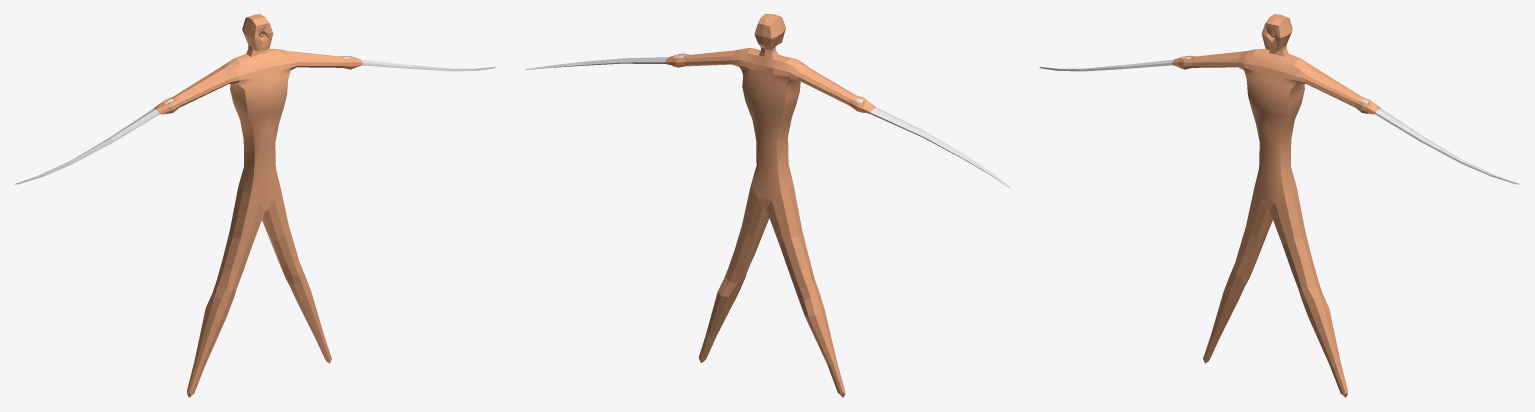
File: Boss.fbx
3 views of the same model, side by side, from view 1: azimuth 30°, elevation 25°; view 2: azimuth 150°, elevation 25°; view 3: azimuth 330°, elevation 25° (orthographic).
Visible parts, largest first — view 1: Box001; view 2: Box001; view 3: Box001.
Boxes of the visible parts, <box> form: Box001: <box>14,14,495,397</box>; Box001: <box>525,14,1010,397</box>; Box001: <box>1039,14,1520,397</box>.
Size of the model in its own units: 52.23 by 4.12 by 37.57.
